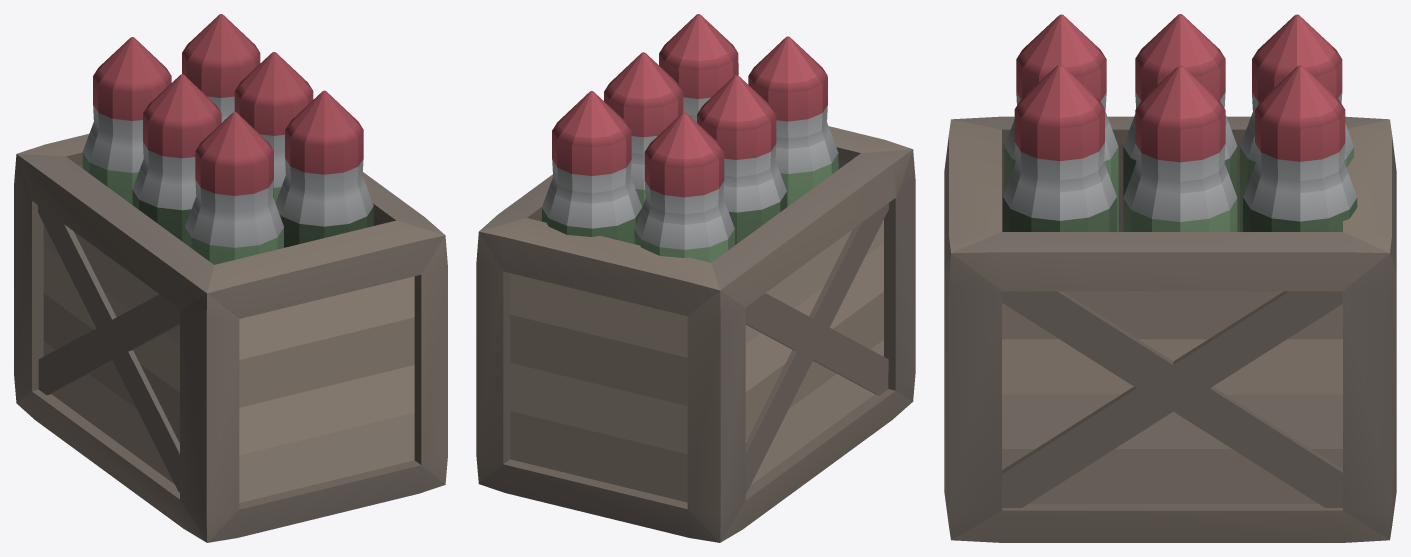
Rendered from Crate.fbx.
The picture shows the model from 3 angles, left to right: view 1: azimuth 30°, elevation 25°; view 2: azimuth 150°, elevation 25°; view 3: azimuth 270°, elevation 25°; orthographic projection. The views are drawn at different scales.
Parts seen in each view (by area): view 1: pCube6; view 2: pCube6; view 3: pCube6.
Boxes of the visible parts, box(x1,y1,x2,y2) form: pCube6: box(14, 14, 447, 542); pCube6: box(476, 14, 915, 542); pCube6: box(944, 14, 1396, 542).
Size of the model in its own units: 7.73 by 11.36 by 10.59.
